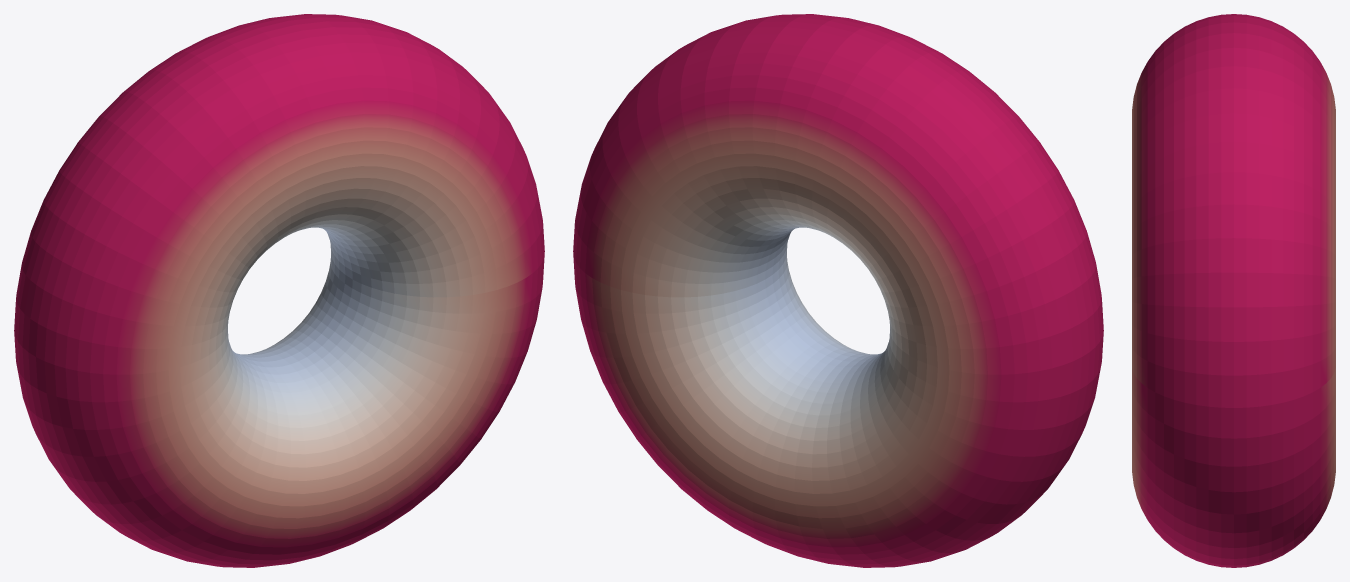
3 views of the same model, side by side, from view 1: azimuth 30°, elevation 25°; view 2: azimuth 150°, elevation 25°; view 3: azimuth 270°, elevation 25° (orthographic). The views are drawn at different scales.
Visible parts, largest first — view 1: world; view 2: world; view 3: world.
Boxes of the visible parts, left/top/right/bottom form: world: left=14, top=14, right=544, bottom=567; world: left=573, top=14, right=1103, bottom=567; world: left=1132, top=14, right=1335, bottom=567.
Bounding box in the file's own units: 26.4 × 26.35 × 9.71.
